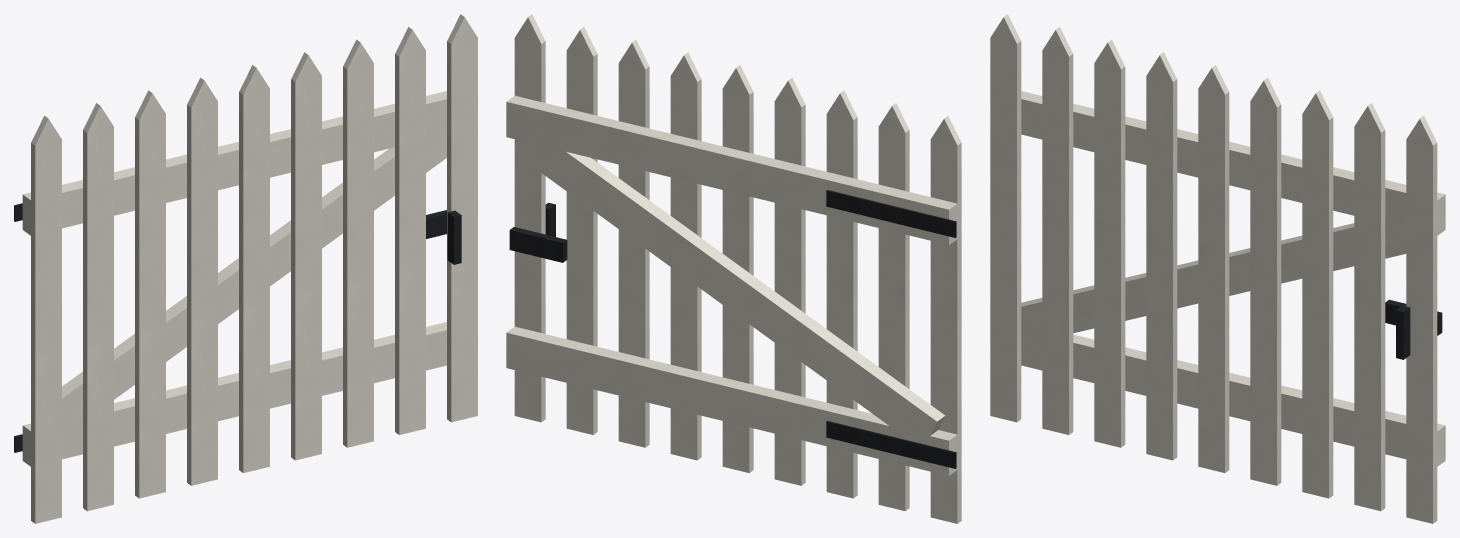
Rendered from fence_picket_gate.gltf.
The picture shows the model from 3 angles, left to right: view 1: azimuth 30°, elevation 25°; view 2: azimuth 150°, elevation 25°; view 3: azimuth 330°, elevation 25°; orthographic projection.
Parts seen in each view (by area): view 1: fence_picket_gate; view 2: fence_picket_gate; view 3: fence_picket_gate.
Part boxes in pixels (x1,y1,x2,y2): fence_picket_gate: [14, 14, 477, 523]; fence_picket_gate: [506, 14, 961, 523]; fence_picket_gate: [990, 14, 1445, 523].
Size of the model in its own units: 1.18 by 1.01 by 0.107.
Materials: 2 (2 with a texture image).
